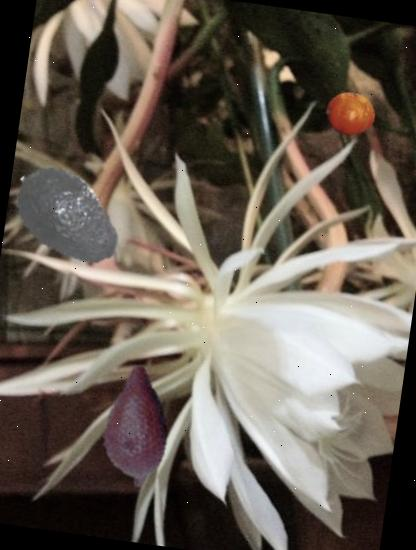Avocado: (0, 150, 134, 286)
Clementine: (321, 86, 379, 144)
Salak: (64, 356, 205, 498)
